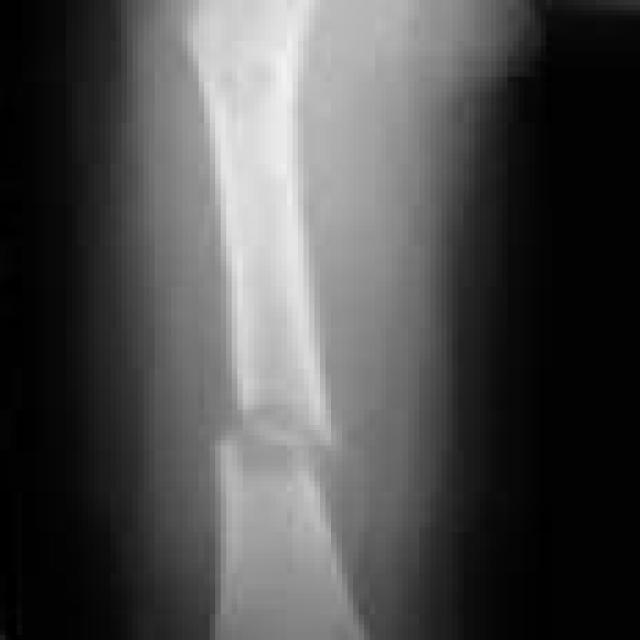Broken: (182, 17, 334, 450), (225, 444, 357, 623)
